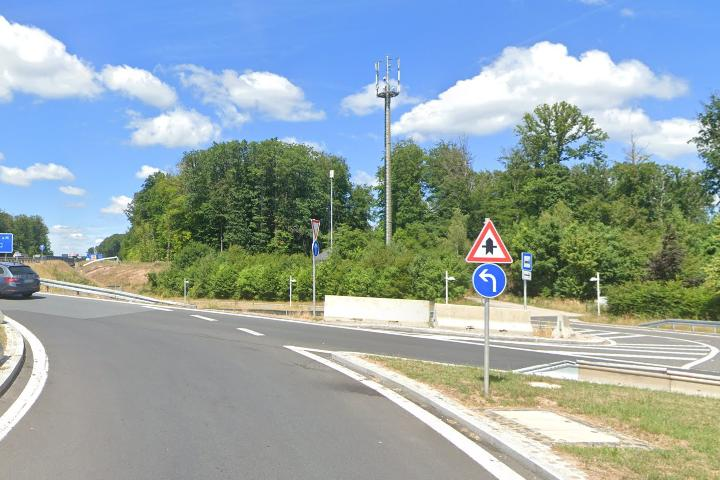traffic_sign: (464, 218, 514, 264), (472, 263, 507, 298), (311, 219, 320, 239), (312, 241, 319, 256)
